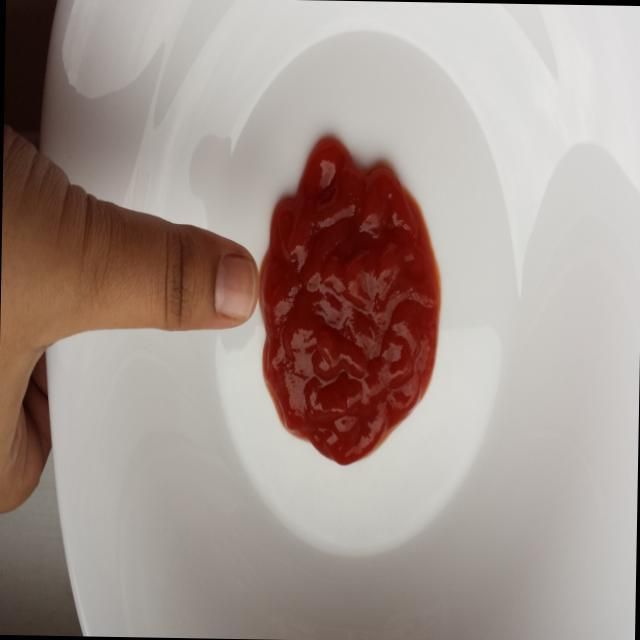Sauce: (253, 132, 458, 477)
